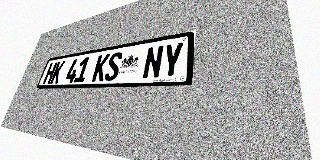1: (73, 57, 91, 83)
4: (64, 58, 81, 83)
H: (42, 62, 58, 84)
K: (91, 54, 110, 82), (50, 61, 66, 84)
N: (142, 45, 164, 79)
S: (103, 51, 123, 81)
Y: (160, 42, 184, 78)
